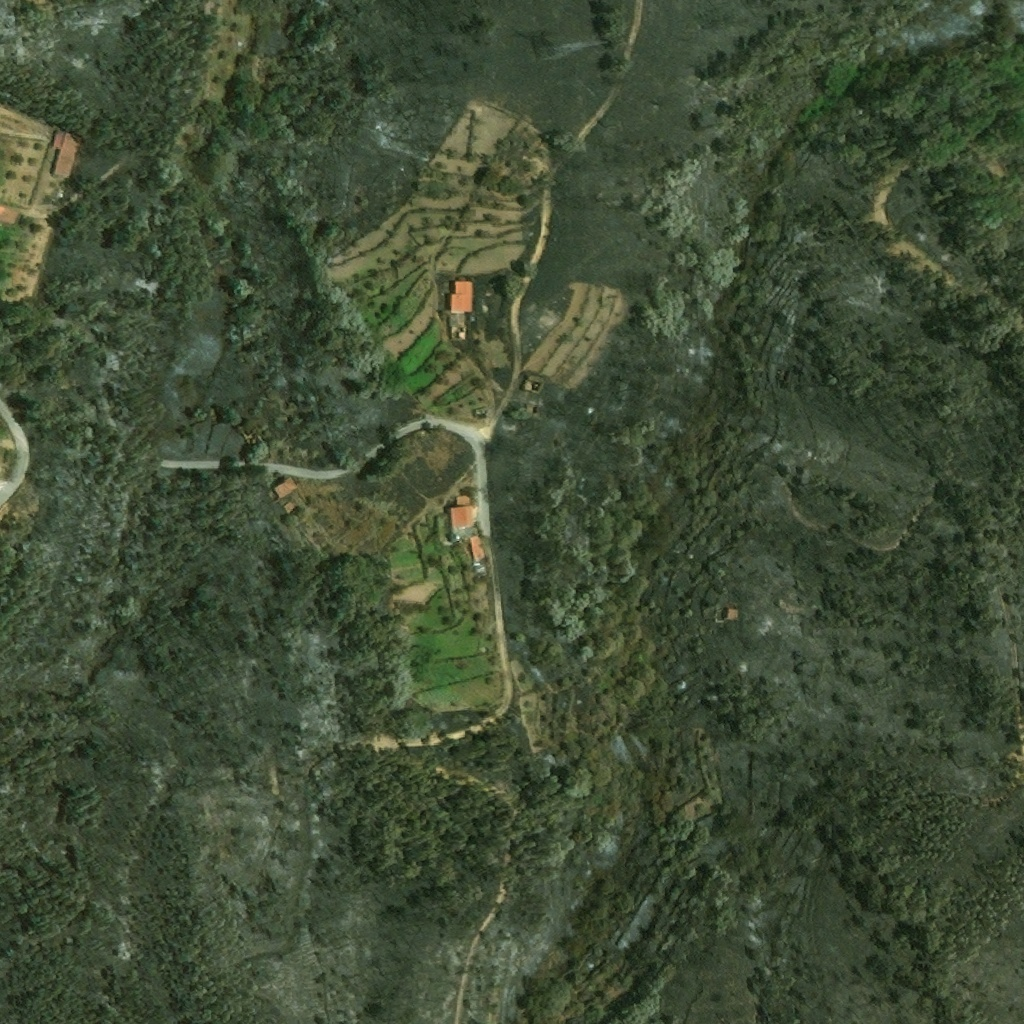0 no-damage: (449, 493, 480, 539), (51, 127, 80, 176), (449, 278, 473, 311), (468, 536, 487, 573), (273, 477, 294, 500), (448, 313, 465, 338), (0, 205, 18, 224)
3 destroyed: (526, 401, 539, 414)
